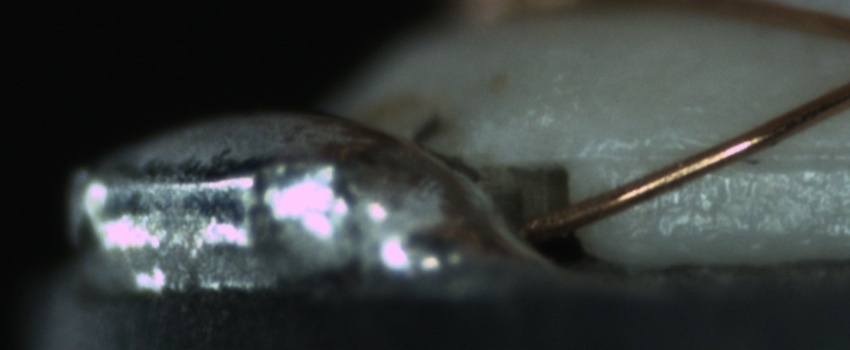DL: (604, 124, 849, 189)
